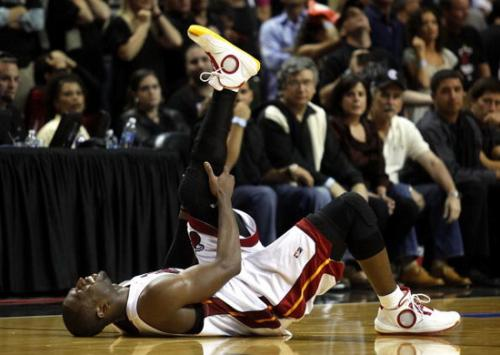10+: (1, 1, 500, 343)
down: (54, 21, 463, 340)
